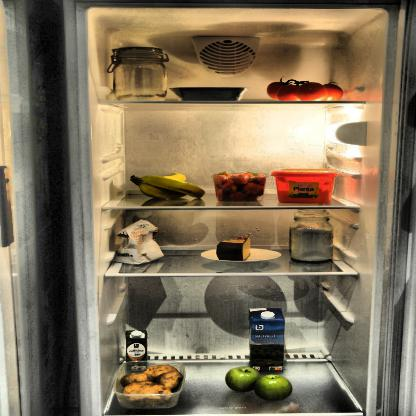apple: (221, 366, 294, 402)
banana: (120, 171, 208, 202)
butter: (277, 169, 336, 203)
cheese: (217, 235, 252, 261)
heavy_cream: (124, 328, 152, 374)
milk: (246, 307, 287, 372)
potato: (119, 356, 184, 411)
strawberries: (210, 171, 268, 202)
tomato: (263, 76, 345, 103)
